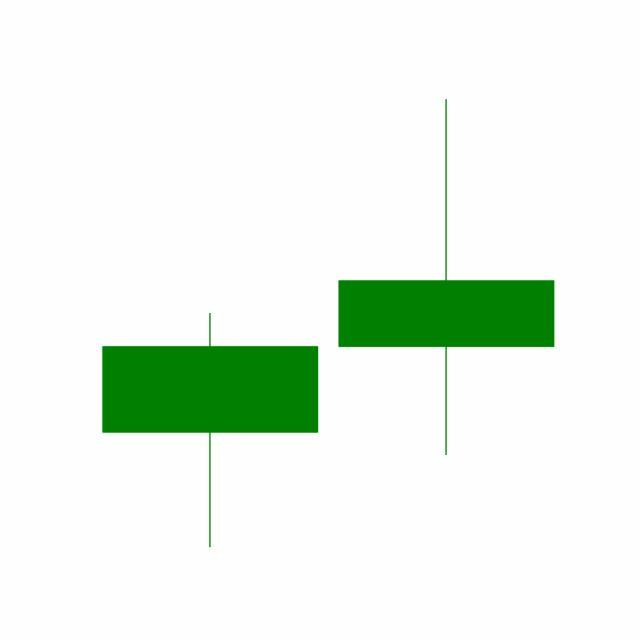Spinning Top: (328, 96, 566, 461)
